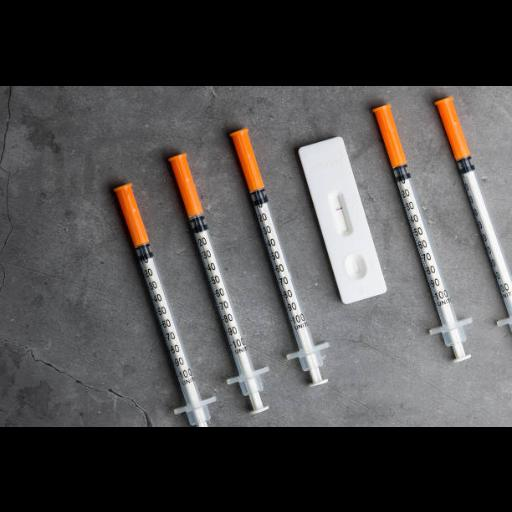Neg: (299, 135, 387, 304)
